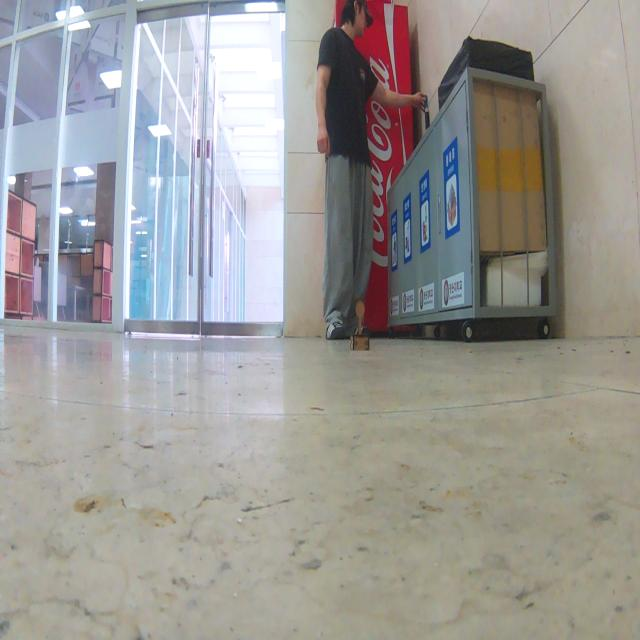target: (350, 300, 370, 351)
